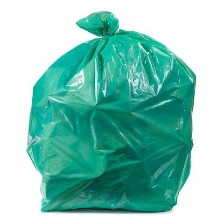plastic_bag: (23, 4, 200, 217)
